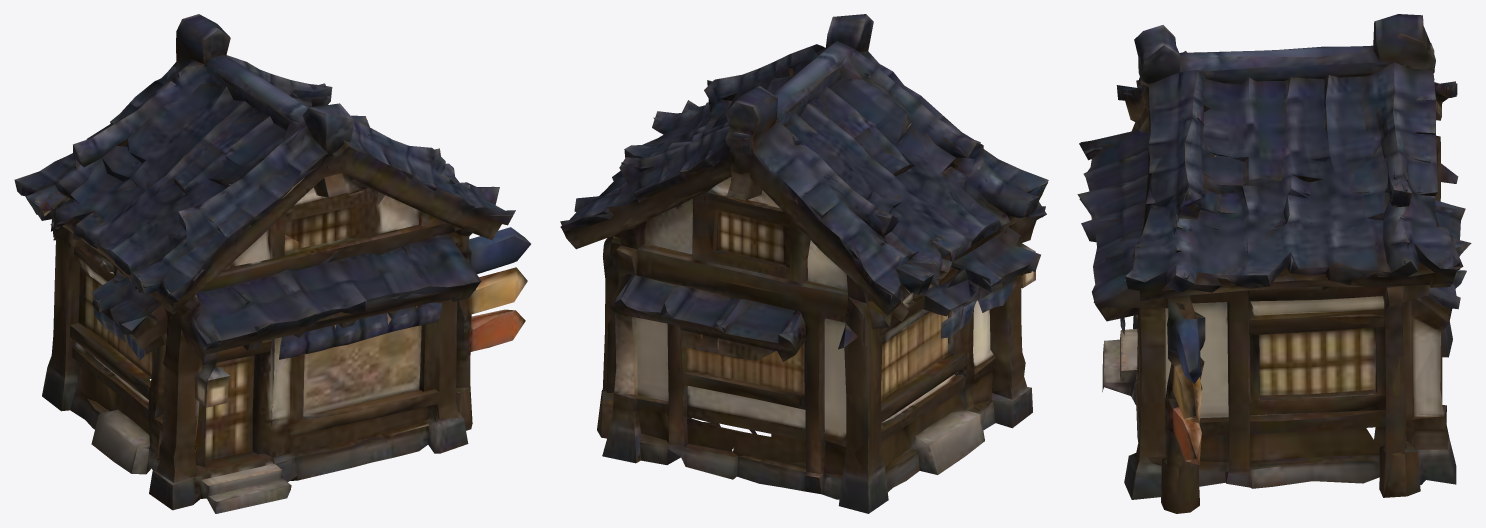
3 renders of one model, left to right at view 1: azimuth 30°, elevation 25°; view 2: azimuth 150°, elevation 25°; view 3: azimuth 270°, elevation 25°, orthographic. The views are drawn at different scales.
Visible parts, largest first — view 1: compact__junction_hub__neural_lod; view 2: compact__junction_hub__neural_lod; view 3: compact__junction_hub__neural_lod.
Part boxes in pixels (x1,y1,x2,y2): compact__junction_hub__neural_lod: (14,14,530,513); compact__junction_hub__neural_lod: (560,14,1048,513); compact__junction_hub__neural_lod: (1077,14,1471,513).
Size of the model in its own units: 0.9903 by 0.8426 by 0.7414.
1 material, 1 textured.
